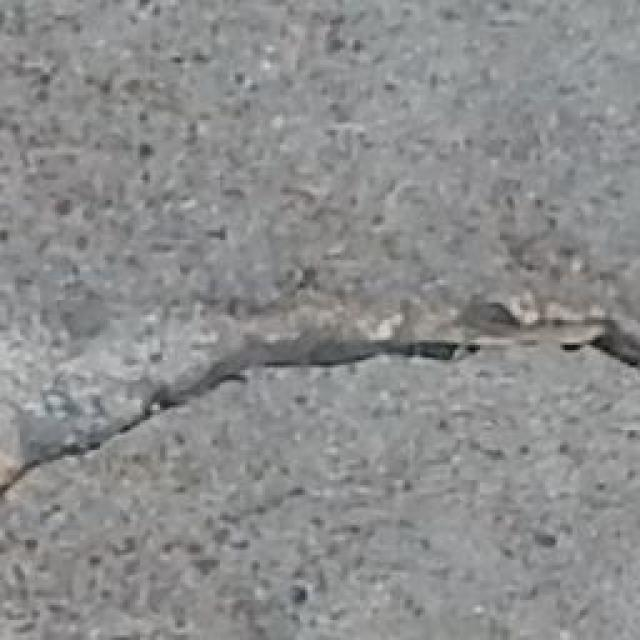concrete-crack: (1, 291, 640, 497)
